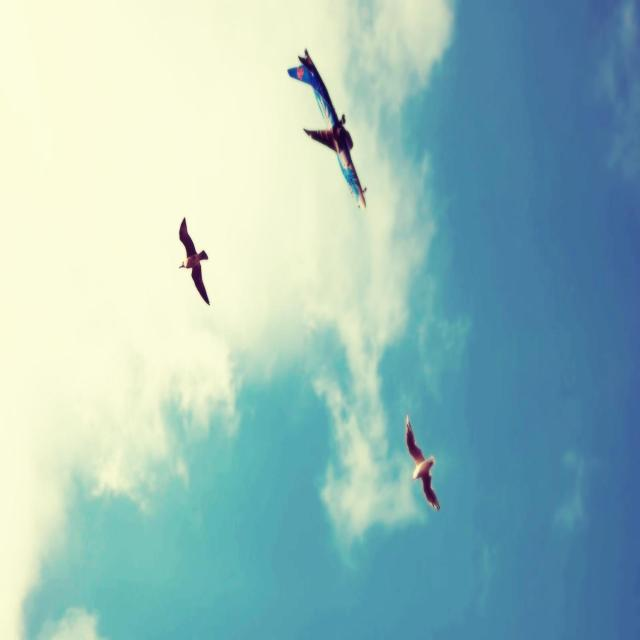airplane: (287, 47, 367, 210)
